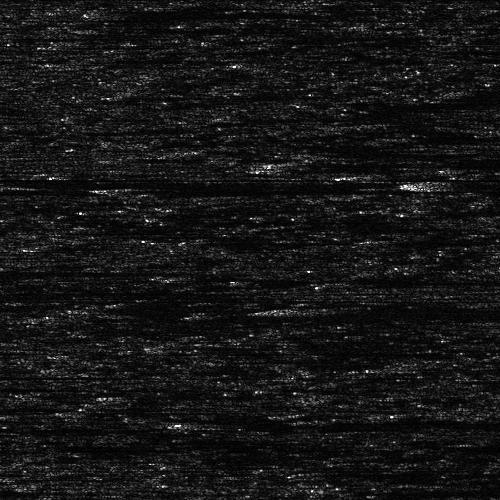object: (378, 177, 461, 194), (161, 417, 254, 428), (231, 305, 336, 314), (226, 156, 309, 167), (101, 185, 174, 194), (78, 10, 131, 17), (0, 32, 28, 43), (486, 119, 500, 134), (74, 25, 115, 30)
shadow: (208, 417, 500, 428), (138, 185, 366, 194), (284, 305, 500, 314), (268, 156, 424, 167), (105, 10, 331, 17), (420, 177, 500, 194), (0, 180, 348, 183), (0, 268, 130, 275), (2, 32, 76, 43), (95, 25, 170, 30), (0, 46, 43, 49)
